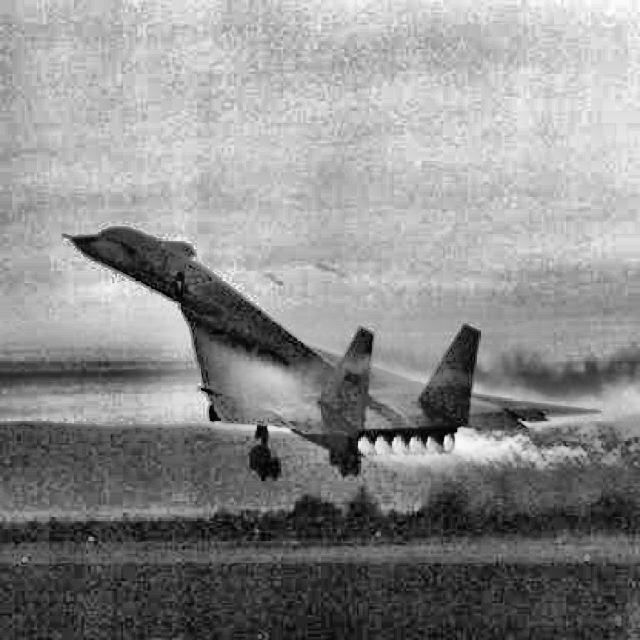XB70: (61, 227, 602, 481)
